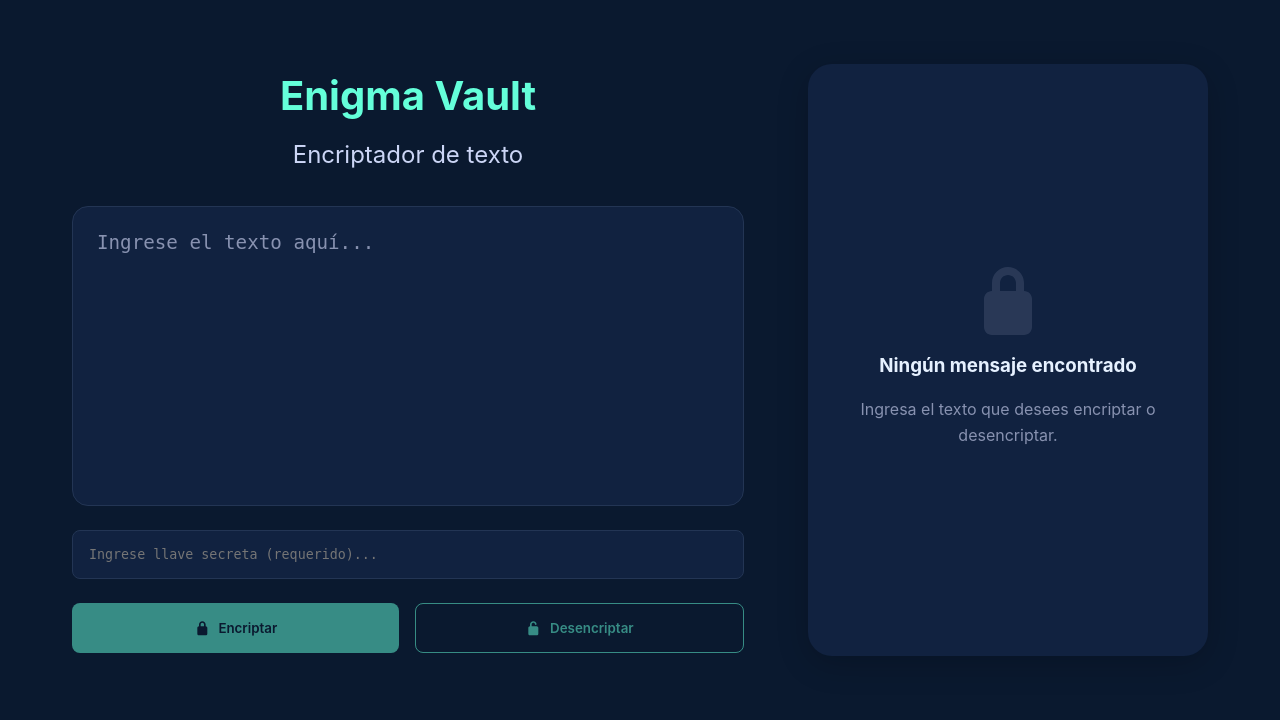
Scenario: App Principal › debería encriptar el texto correctamente
In the text box with placeholder "Ingrese el texto aquí...": (408, 356) [72,206,744,506], type "Secret Message"
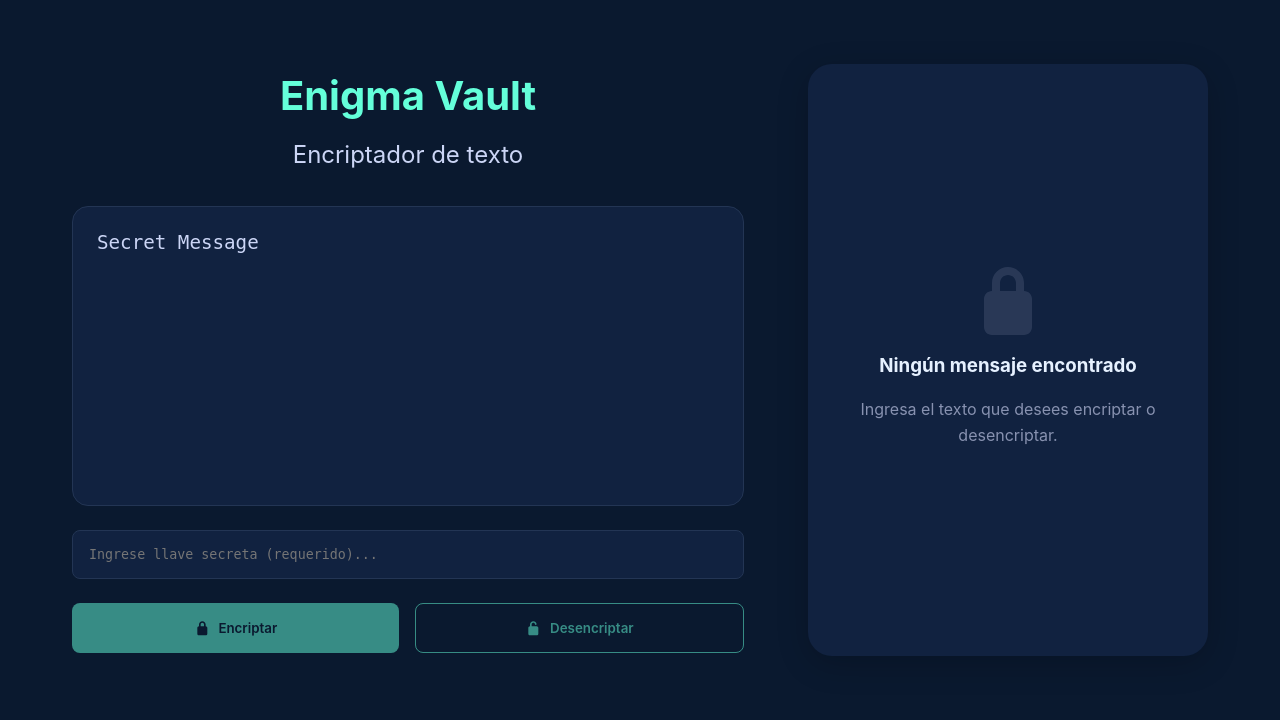
In the field with placeholder "Ingrese llave secreta (requerido)...": (408, 555) [72,530,744,579], type "key123"
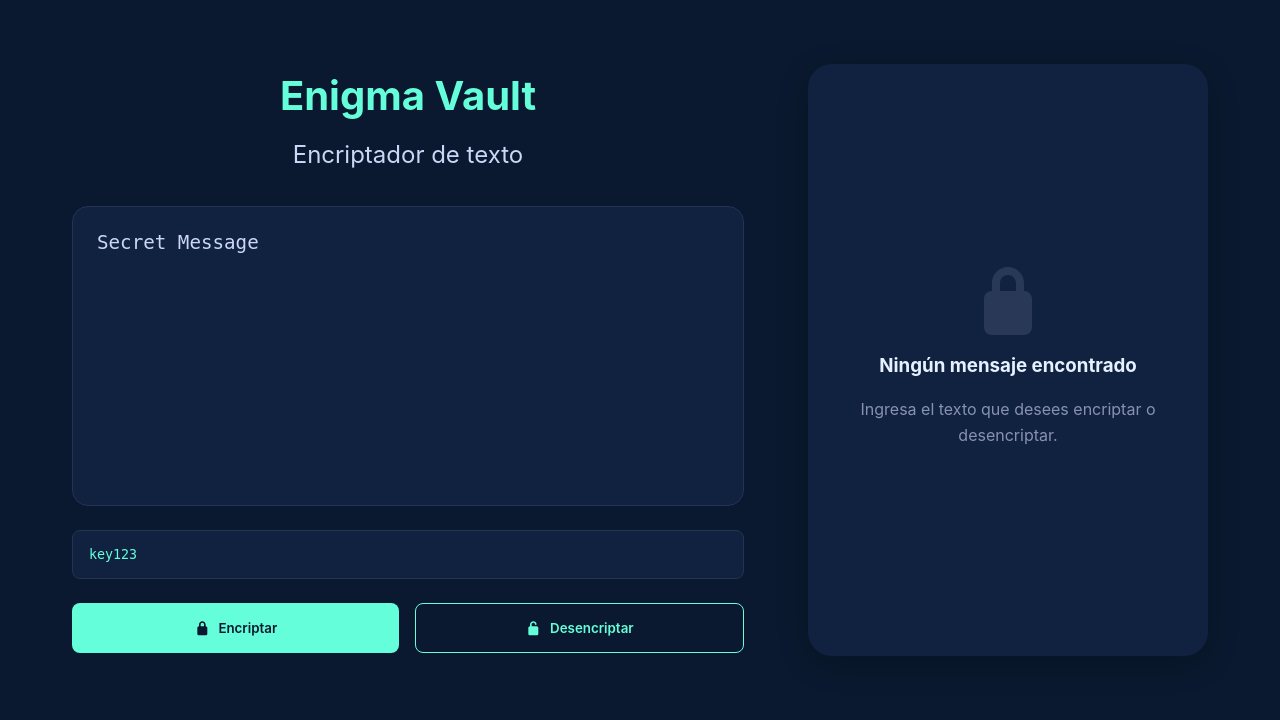
Click the button "Encriptar": (236, 628) [72,603,399,653]
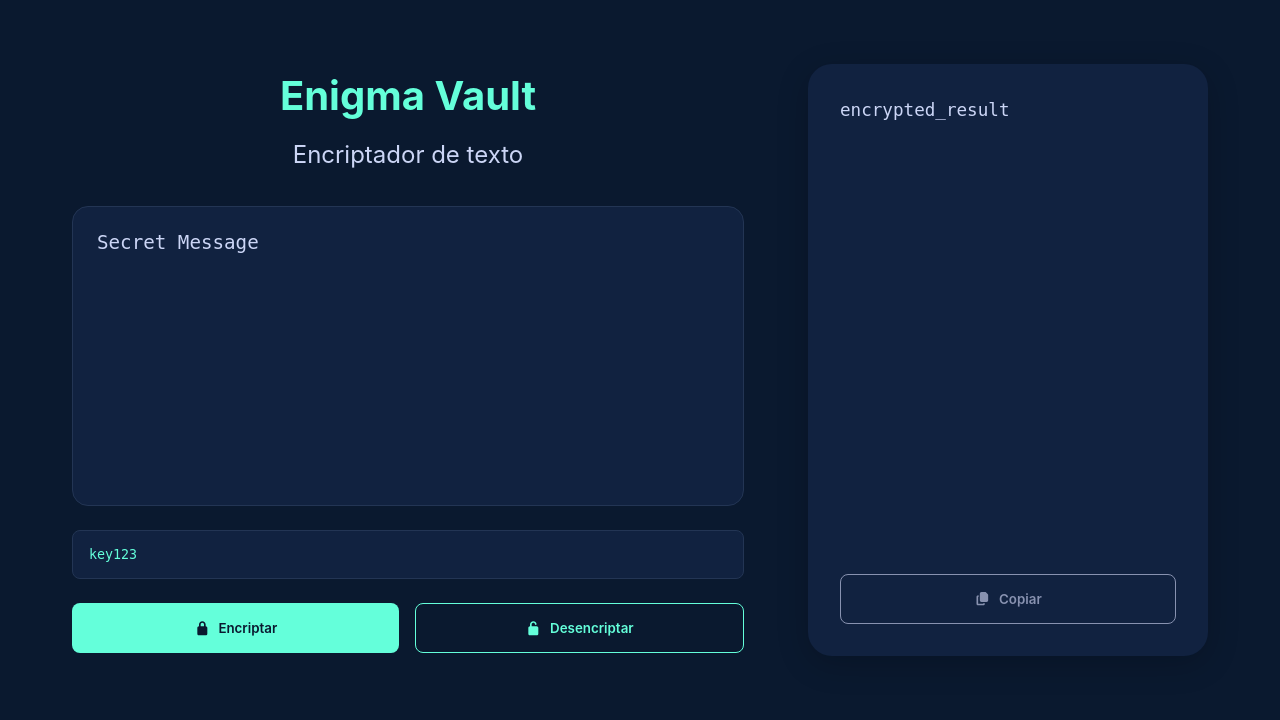
Check: the text "encrypted_result" is shown, box [840,100,1010,120]
